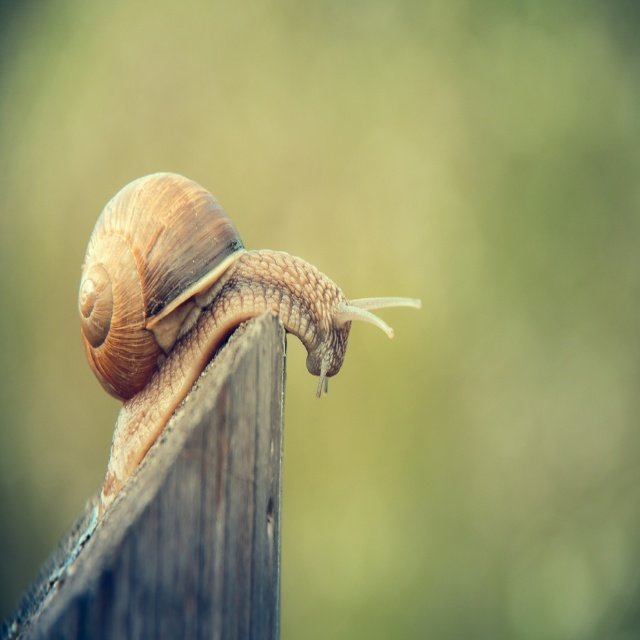Snail: (76, 171, 424, 524)
